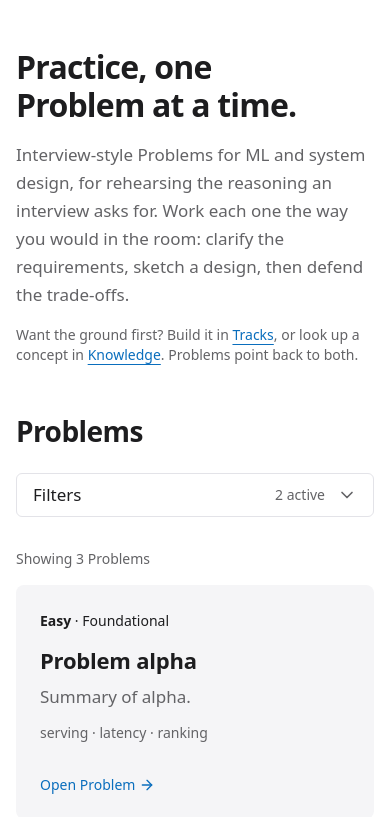
it: /practice mobile disclosure › collapses behind a Filters button that reports its state and the active count
The width and height of the screenshot is (390, 817).
Click the button "Filters 2 active": point(57, 494) 16,473 -> 374,517
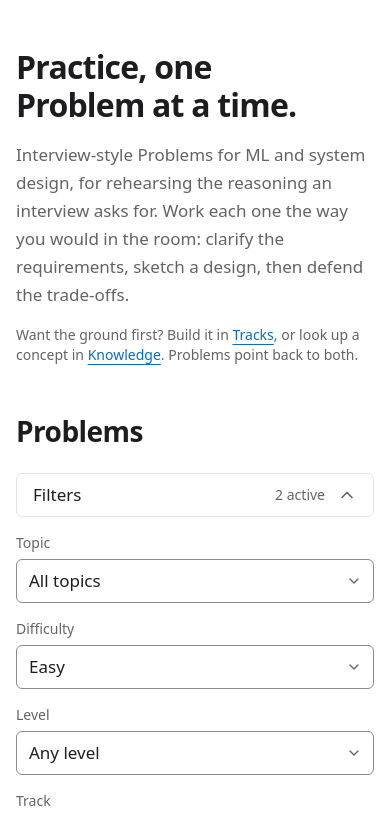
Check: the button "Filters 2 active" is expanded, box 16,473 -> 374,517
